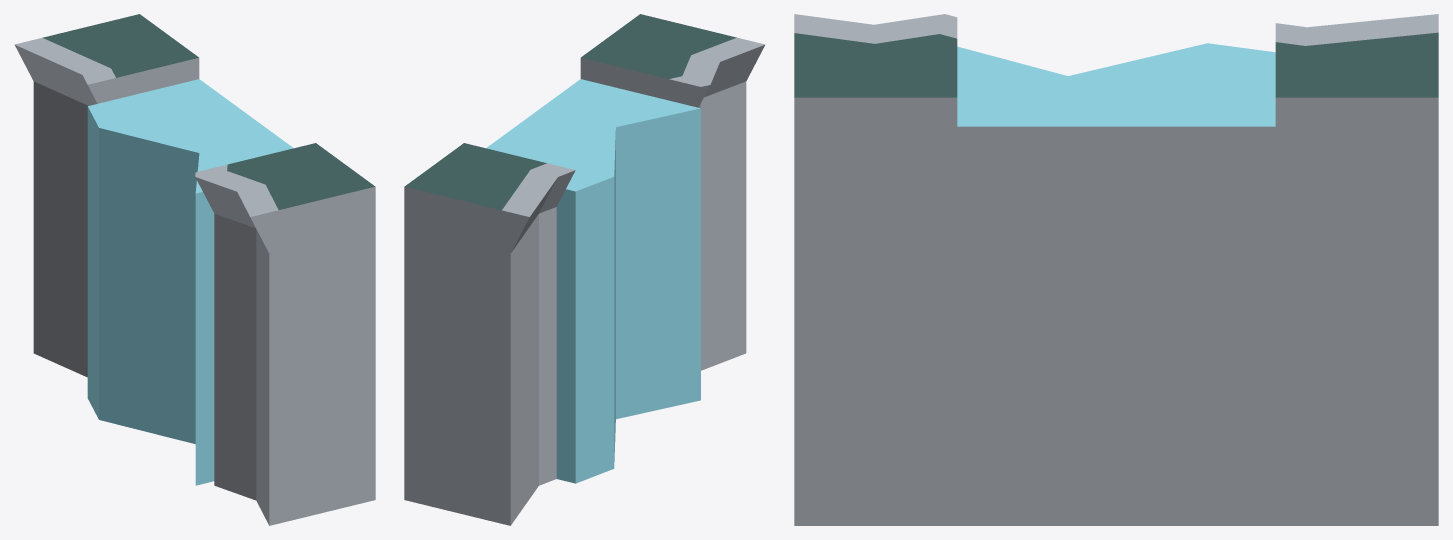
The model's file is Grey_Waterfall_Top_01.obj.
3 views of the same model, side by side, from view 1: azimuth 30°, elevation 25°; view 2: azimuth 150°, elevation 25°; view 3: azimuth 270°, elevation 25° (orthographic). The views are drawn at different scales.
Visible parts, largest first — view 1: Mesh1_Grey_Waterfall_Model.001, Mesh1_Grey_Waterfall_Top_Model; view 2: Mesh1_Grey_Waterfall_Model.001, Mesh1_Grey_Waterfall_Top_Model; view 3: Mesh1_Grey_Waterfall_Model.001, Mesh1_Grey_Waterfall_Top_Model.
Part boxes in pixels (x1,y1,x2,y2): Mesh1_Grey_Waterfall_Model.001: (33, 81, 375, 525); Mesh1_Grey_Waterfall_Top_Model: (14, 14, 375, 253); Mesh1_Grey_Waterfall_Model.001: (404, 81, 746, 525); Mesh1_Grey_Waterfall_Top_Model: (404, 14, 765, 253); Mesh1_Grey_Waterfall_Model.001: (794, 154, 1438, 525); Mesh1_Grey_Waterfall_Top_Model: (794, 14, 1438, 153).
Bounding box in the file's own units: 0.92 × 2.2 × 3.
